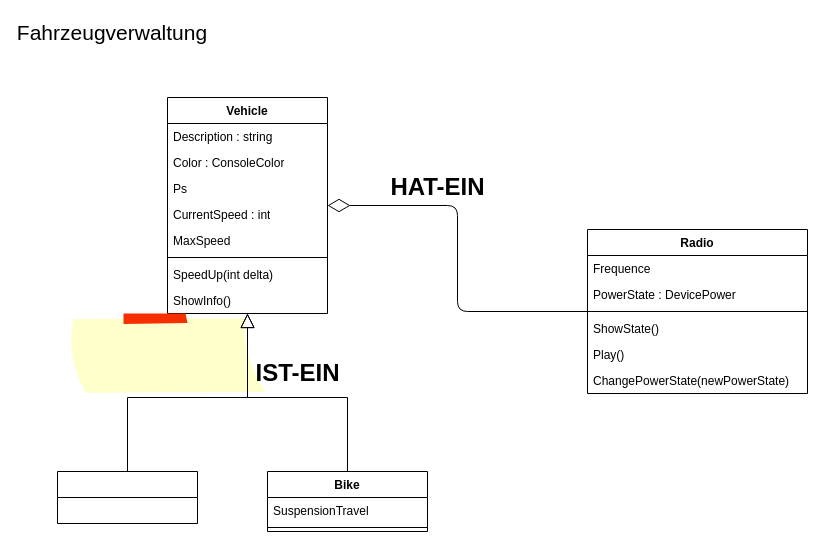
Some shapes in this 825 by 549 pixel diagram are drawn without their labels. Here are the shapes that lost their labels. From the top down, the centre of each, then its label:
At point (167, 353): "öffentliche std. Schnittstelle".
At point (127, 497): "Car".
